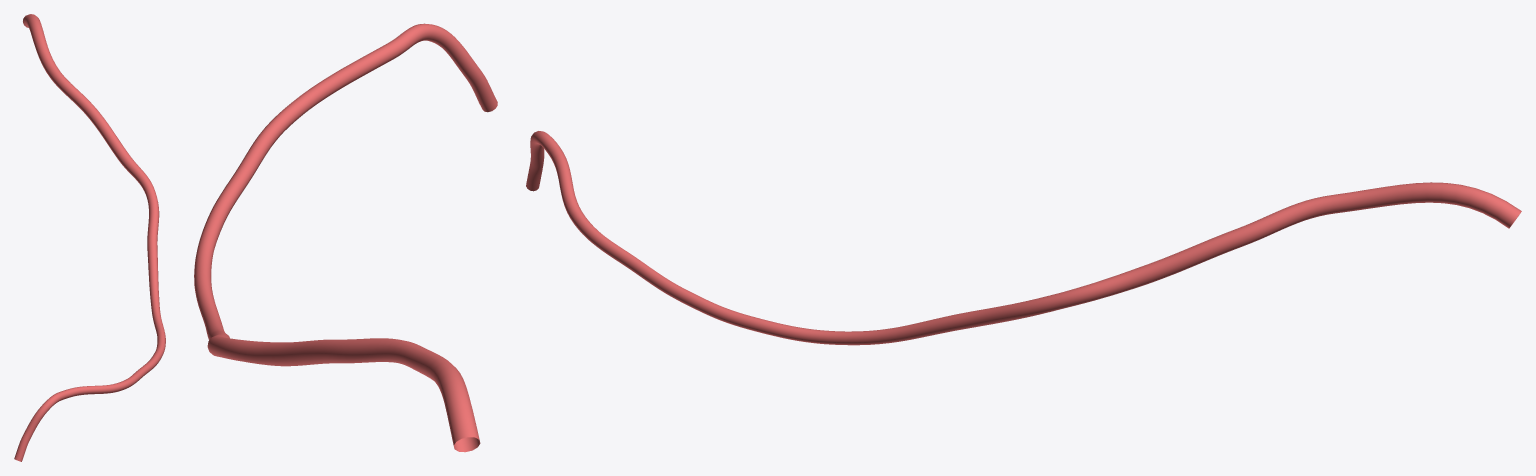
File: Transverse_facial_artery.r_BezierCurve.106.glb
The picture shows the model from 3 angles, left to right: view 1: azimuth 30°, elevation 25°; view 2: azimuth 210°, elevation 25°; view 3: azimuth 270°, elevation 25°; orthographic projection. The views are drawn at different scales.
Visible parts, largest first — view 1: Transverse_facial_artery.r_BezierCurve.106; view 2: Transverse_facial_artery.r_BezierCurve.106; view 3: Transverse_facial_artery.r_BezierCurve.106.
Boxes of the visible parts, bbox=[...] form: Transverse_facial_artery.r_BezierCurve.106: bbox=[14, 14, 165, 461]; Transverse_facial_artery.r_BezierCurve.106: bbox=[194, 23, 497, 452]; Transverse_facial_artery.r_BezierCurve.106: bbox=[526, 131, 1521, 345].
Bounding box in the file's own units: 0.0444 × 0.0197 × 0.0731.
